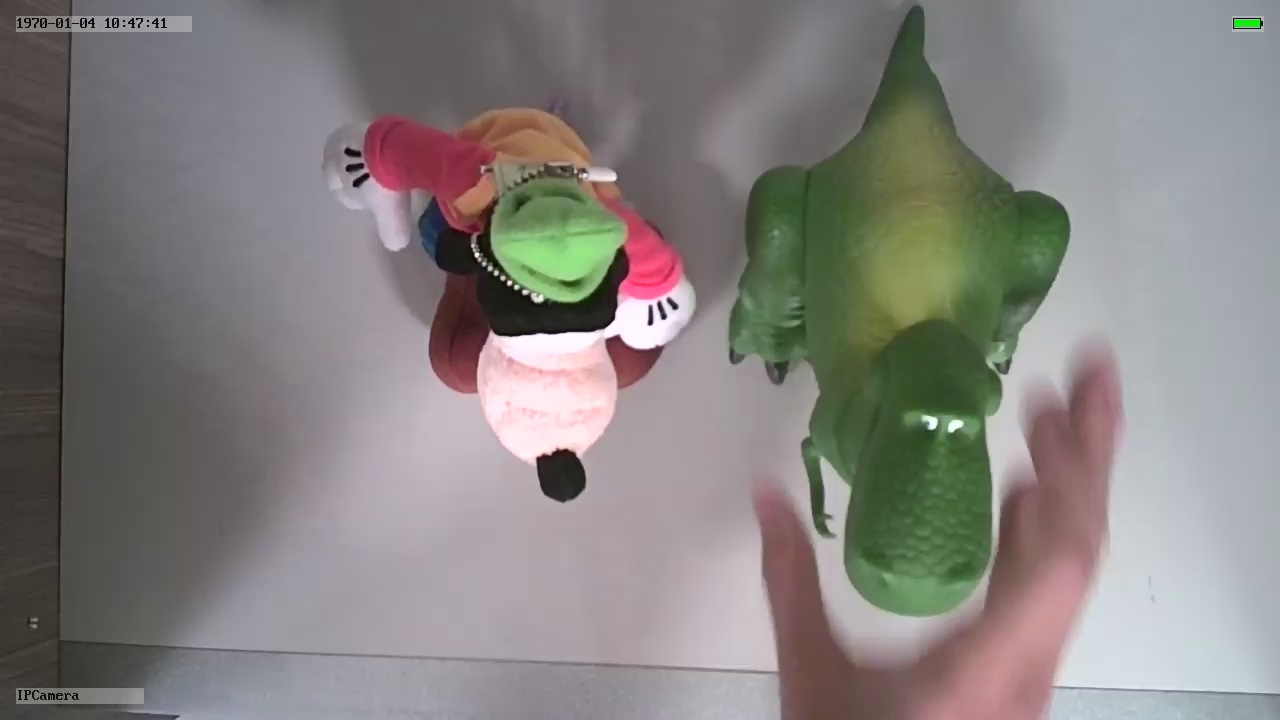goofy: (322, 102, 701, 504)
